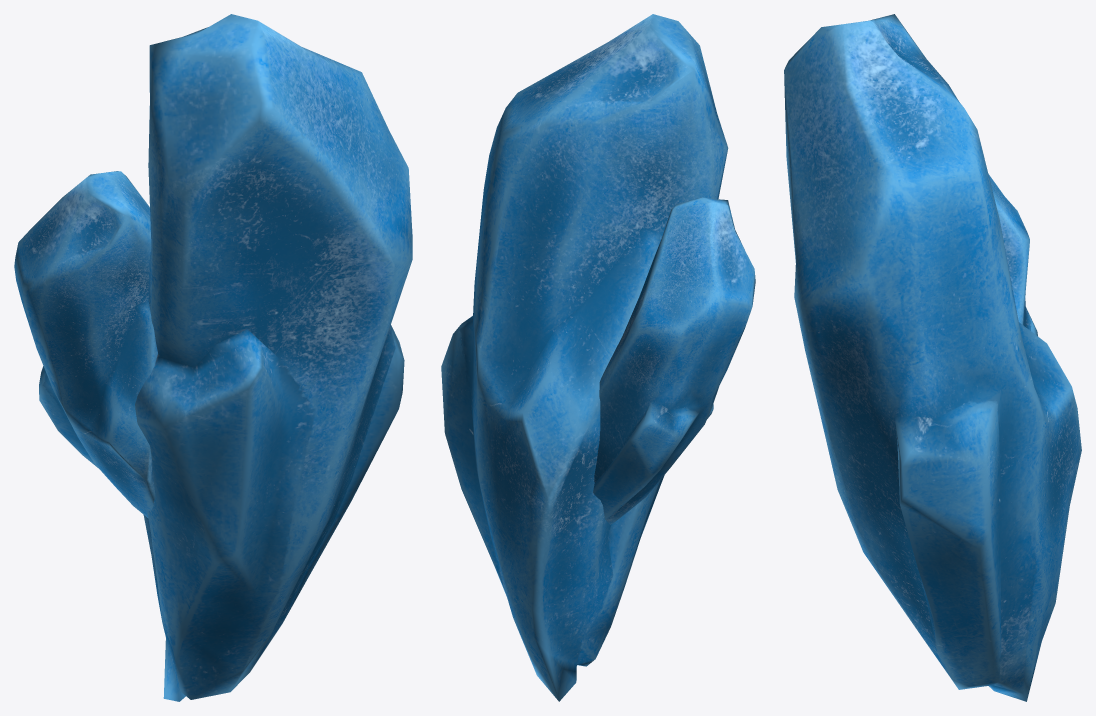
The model's file is ice_crystal_main.fbx.
3 renders of one model, left to right at view 1: azimuth 30°, elevation 25°; view 2: azimuth 150°, elevation 25°; view 3: azimuth 270°, elevation 25°, orthographic. The views are drawn at different scales.
Parts seen in each view (by area): view 1: Ice_crystal_main; view 2: Ice_crystal_main; view 3: Ice_crystal_main.
Part boxes in pixels (<box>): Ice_crystal_main: <box>14,14,412,701</box>; Ice_crystal_main: <box>441,14,755,701</box>; Ice_crystal_main: <box>784,14,1081,701</box>.
Size of the model in its own units: 33.61 by 67.88 by 27.21.
